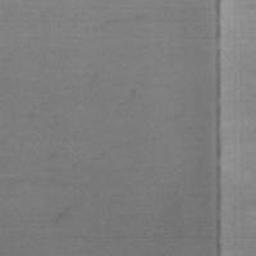Welding line: (212, 0, 223, 255)
